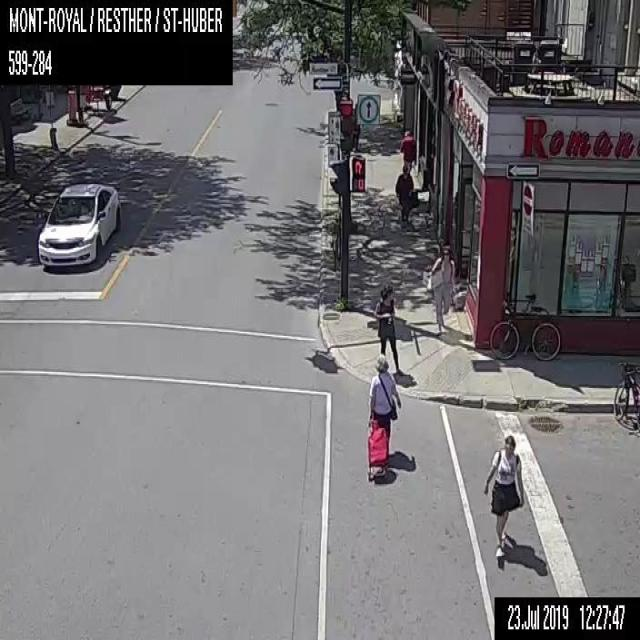construction: (66, 88, 76, 120)
pedestrian: (482, 435, 524, 557), (365, 354, 401, 483), (426, 246, 455, 336), (374, 283, 402, 375), (395, 166, 412, 225), (399, 130, 416, 172)
vehicle: (36, 182, 120, 266)
